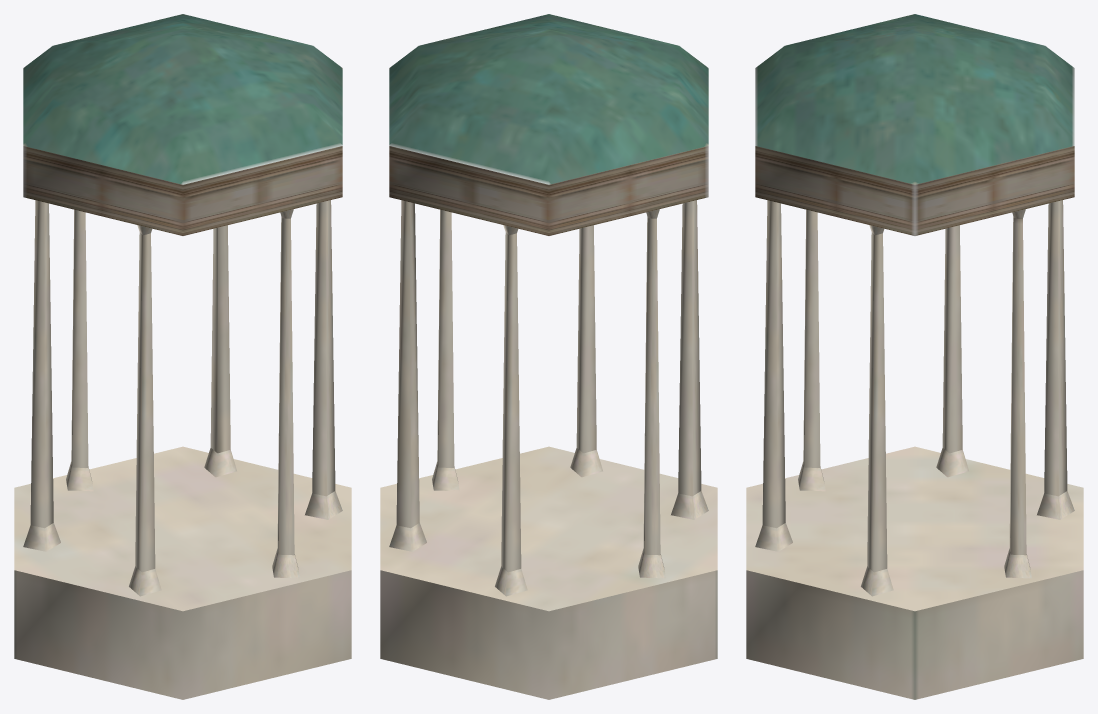
The model's file is thm_nboo_imprv_garden_gazebo_lg_s01_l2.fbx.
3 renders of one model, left to right at view 1: azimuth 30°, elevation 25°; view 2: azimuth 150°, elevation 25°; view 3: azimuth 270°, elevation 25°, orthographic.
Parts seen in each view (by area): view 1: mesh_node; view 2: mesh_node; view 3: mesh_node.
Part boxes in pixels (<box>): mesh_node: <box>14,14,351,699</box>; mesh_node: <box>380,14,717,699</box>; mesh_node: <box>746,14,1083,699</box>.
Size of the model in its own units: 8.82 by 14.52 by 7.64.
